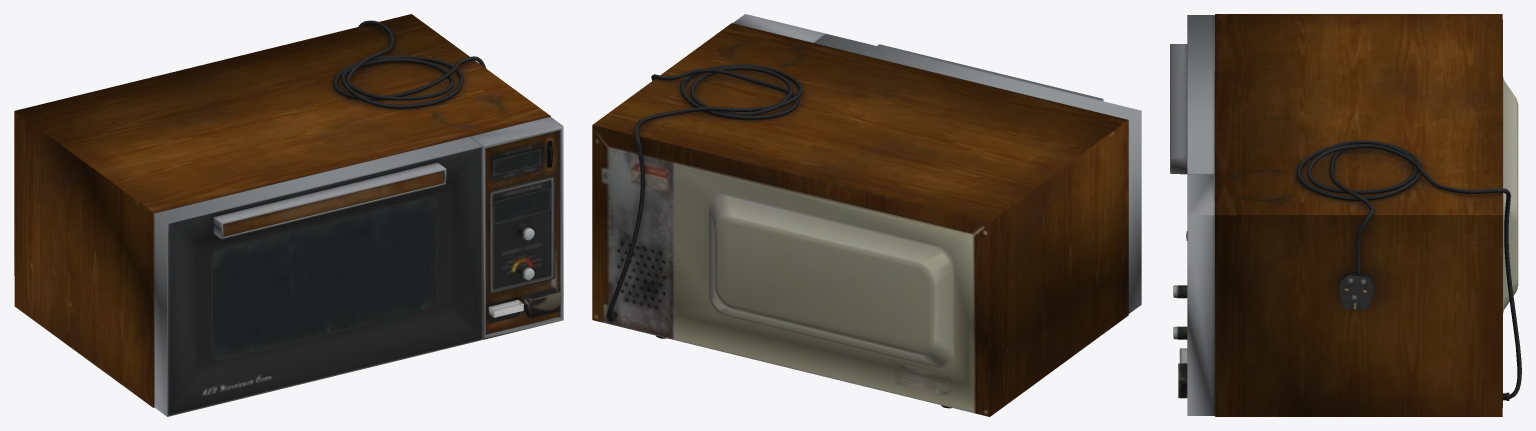
The model's file is vintage_microwave.glb.
3 views of the same model, side by side, from view 1: azimuth 30°, elevation 25°; view 2: azimuth 150°, elevation 25°; view 3: azimuth 270°, elevation 25° (orthographic). The views are drawn at different scales.
Parts seen in each view (by area): view 1: vintage_microwave; view 2: vintage_microwave; view 3: vintage_microwave.
Part boxes in pixels (left/top/right/bottom): vintage_microwave: left=14, top=14, right=563, bottom=416; vintage_microwave: left=592, top=14, right=1141, bottom=416; vintage_microwave: left=1170, top=14, right=1521, bottom=416.
Size of the model in its own units: 1.07 by 0.5258 by 0.7456.
Materials: 2 (2 with a texture image).
